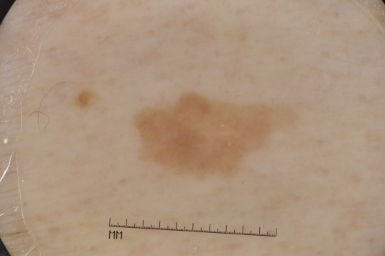seborrheic keratosis: (123, 84, 300, 184)
